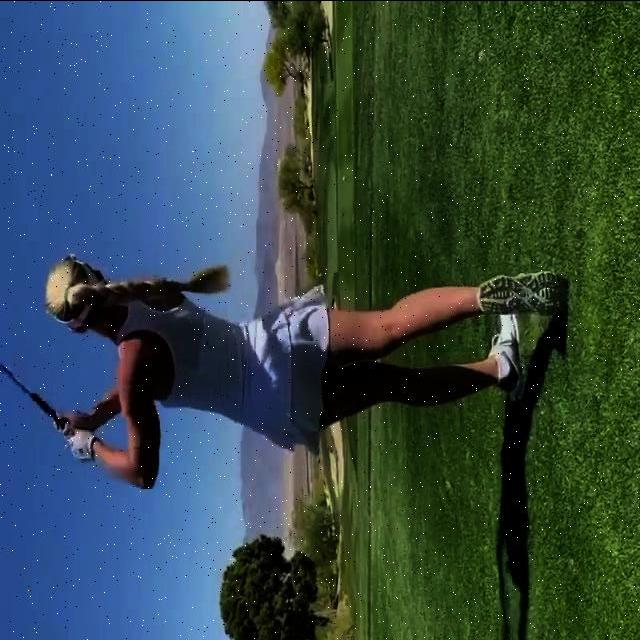golf club-handle: (0, 364, 65, 428)
